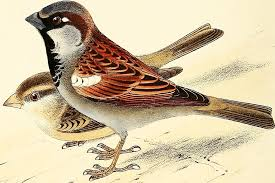hsparrow: (23, 1, 275, 180), (2, 21, 226, 147)
